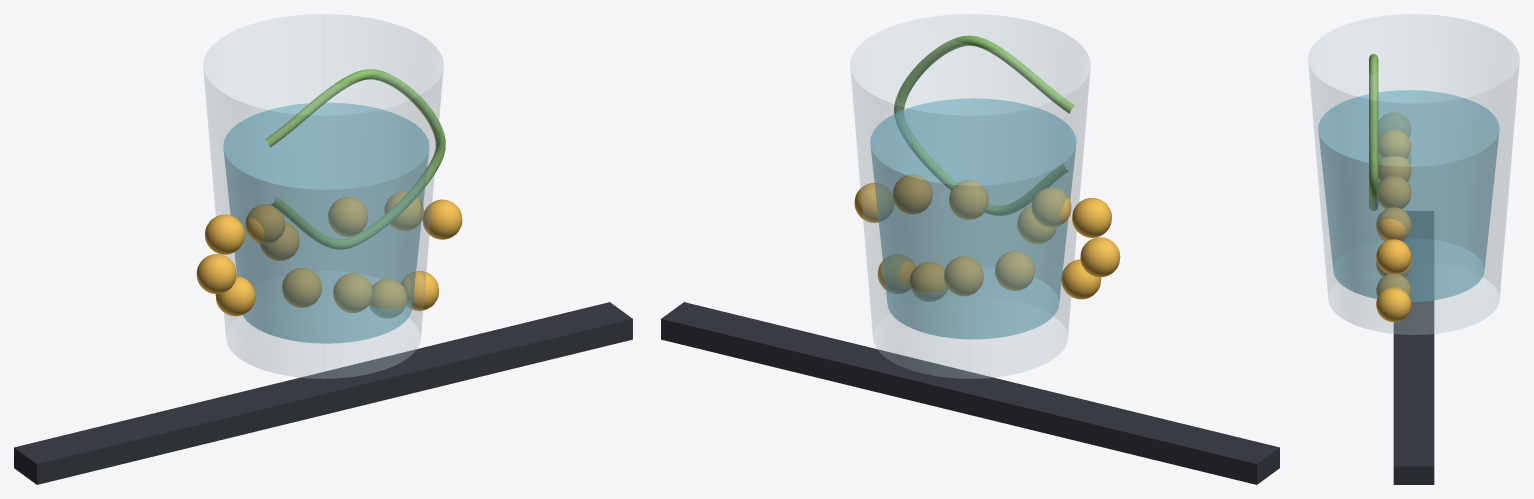
File: chem-solutions-dissolving-mixing.glb
The picture shows the model from 3 angles, left to right: view 1: azimuth 30°, elevation 25°; view 2: azimuth 150°, elevation 25°; view 3: azimuth 270°, elevation 25°; orthographic projection. The views are drawn at different scales.
Visible parts, largest first — view 1: mixing-beaker-swirl-glass, mixing-beaker-swirl-liquid, solutions-lab-bench, stirring-swirl-path, mixing-solute-spreading-particle-10, mixing-solute-spreading-particle-5, mixing-solute-spreading-particle-9, mixing-solute-spreading-particle-2, mixing-solute-spreading-particle-1, mixing-solute-spreading-particle-7, mixing-solute-spreading-particle-11, mixing-solute-spreading-particle-3 (+4 smaller); view 2: mixing-beaker-swirl-glass, mixing-beaker-swirl-liquid, solutions-lab-bench, stirring-swirl-path, mixing-solute-spreading-particle-5, mixing-solute-spreading-particle-11, mixing-solute-spreading-particle-10, mixing-solute-spreading-particle-1, mixing-solute-spreading-particle-7, mixing-solute-spreading-particle-8, mixing-solute-spreading-particle-2, mixing-solute-spreading-particle-9 (+4 smaller); view 3: mixing-beaker-swirl-glass, mixing-beaker-swirl-liquid, solutions-lab-bench, stirring-swirl-path, mixing-solute-spreading-particle-9, mixing-solute-spreading-particle-4, mixing-solute-spreading-particle-8, mixing-solute-spreading-particle-7, mixing-solute-spreading-particle-11, mixing-solute-spreading-particle-6, mixing-solute-spreading-particle-10, mixing-solute-spreading-particle-3.
Part boxes in pixels (box(x1,y1,x2,y2)): mixing-beaker-swirl-glass: box(203, 14, 443, 378); mixing-beaker-swirl-liquid: box(223, 102, 429, 343); solutions-lab-bench: box(14, 302, 632, 484); stirring-swirl-path: box(265, 69, 445, 249); mixing-solute-spreading-particle-10: box(205, 214, 244, 254); mixing-solute-spreading-particle-5: box(196, 254, 236, 293); mixing-solute-spreading-particle-9: box(422, 199, 462, 239); mixing-solute-spreading-particle-2: box(333, 273, 372, 312); mixing-solute-spreading-particle-1: box(282, 268, 321, 307); mixing-solute-spreading-particle-7: box(328, 197, 367, 236); mixing-solute-spreading-particle-11: box(245, 204, 285, 244); mixing-solute-spreading-particle-3: box(369, 278, 407, 318); mixing-beaker-swirl-glass: box(850, 14, 1090, 378); mixing-beaker-swirl-liquid: box(870, 98, 1076, 339); solutions-lab-bench: box(661, 302, 1279, 484); stirring-swirl-path: box(894, 35, 1074, 215); mixing-solute-spreading-particle-5: box(1080, 237, 1120, 277); mixing-solute-spreading-particle-11: box(1031, 187, 1071, 227); mixing-solute-spreading-particle-10: box(1072, 198, 1111, 237); mixing-solute-spreading-particle-1: box(995, 251, 1034, 290); mixing-solute-spreading-particle-7: box(949, 180, 988, 219); mixing-solute-spreading-particle-8: box(893, 174, 932, 214); mixing-solute-spreading-particle-2: box(944, 256, 983, 296); mixing-solute-spreading-particle-9: box(854, 183, 893, 222); mixing-beaker-swirl-glass: box(1308, 14, 1519, 334); mixing-beaker-swirl-liquid: box(1318, 90, 1499, 301); solutions-lab-bench: box(1393, 211, 1434, 484); stirring-swirl-path: box(1369, 54, 1378, 210); mixing-solute-spreading-particle-9: box(1376, 239, 1411, 274); mixing-solute-spreading-particle-4: box(1376, 287, 1411, 321); mixing-solute-spreading-particle-8: box(1376, 207, 1411, 240); mixing-solute-spreading-particle-7: box(1378, 176, 1411, 208); mixing-solute-spreading-particle-11: box(1378, 129, 1411, 158); mixing-solute-spreading-particle-6: box(1378, 156, 1411, 181); mixing-solute-spreading-particle-10: box(1379, 113, 1410, 136); mixing-solute-spreading-particle-3: box(1376, 274, 1411, 296).
Size of what is drawn, in the model's own units: 2.4 by 1.33 by 0.84.
